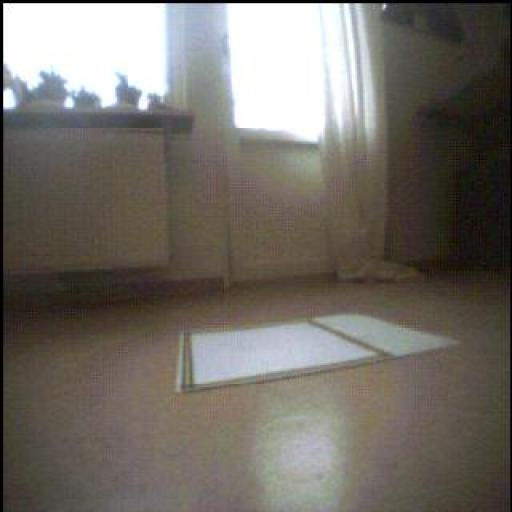Pad: (182, 296, 456, 394)
